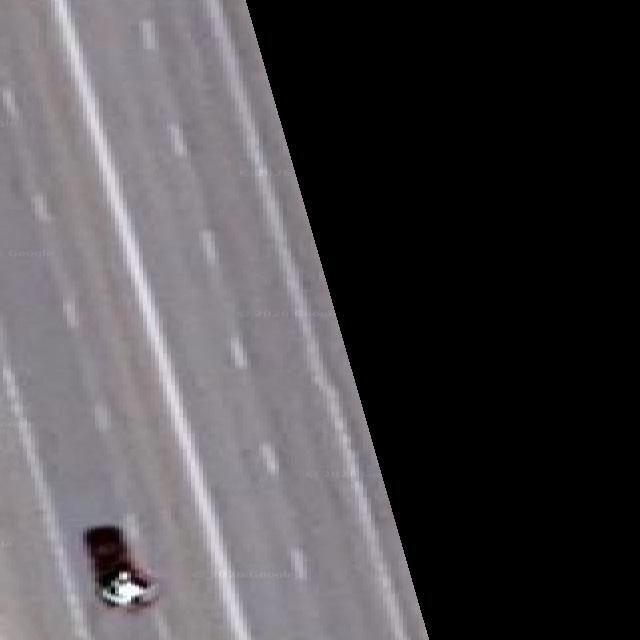car: (83, 526, 158, 608)
